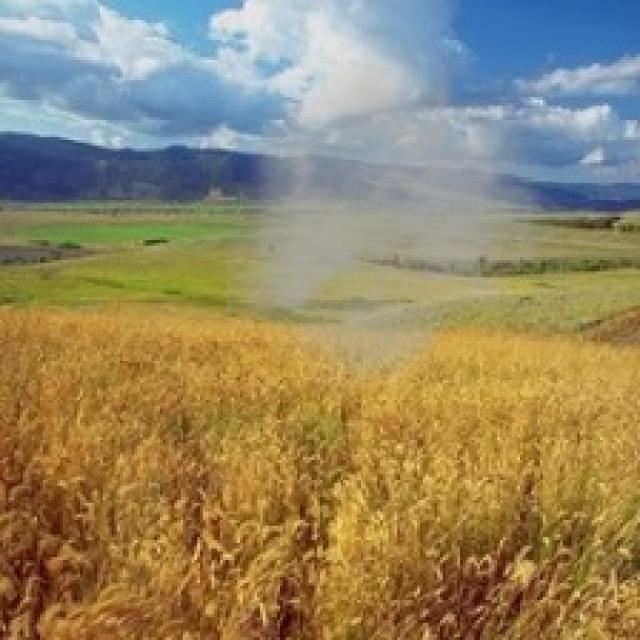Smoke: (226, 26, 583, 406)
